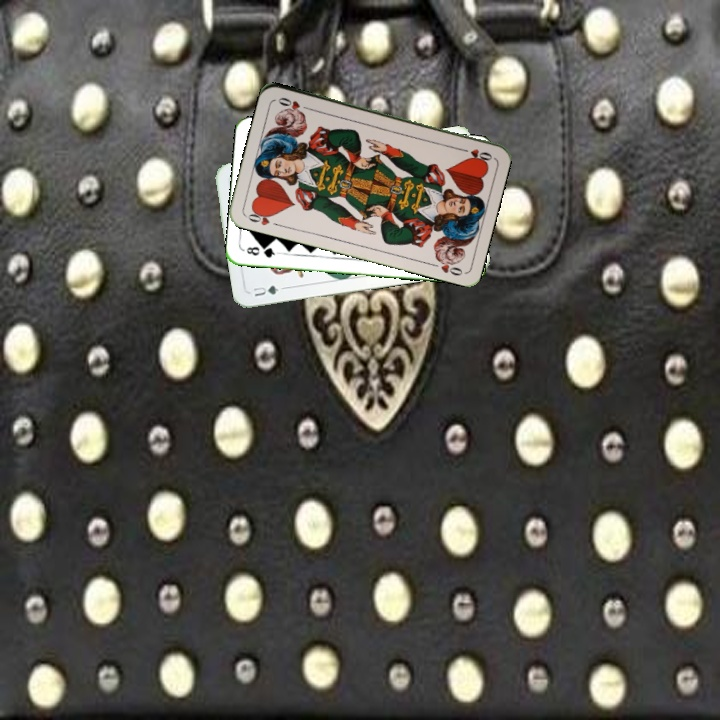G8: (242, 243, 281, 260)
GU: (249, 281, 288, 299)
HO: (242, 205, 282, 229), (455, 144, 495, 163)
